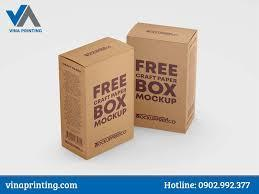box: (58, 35, 134, 161), (127, 25, 197, 134)
